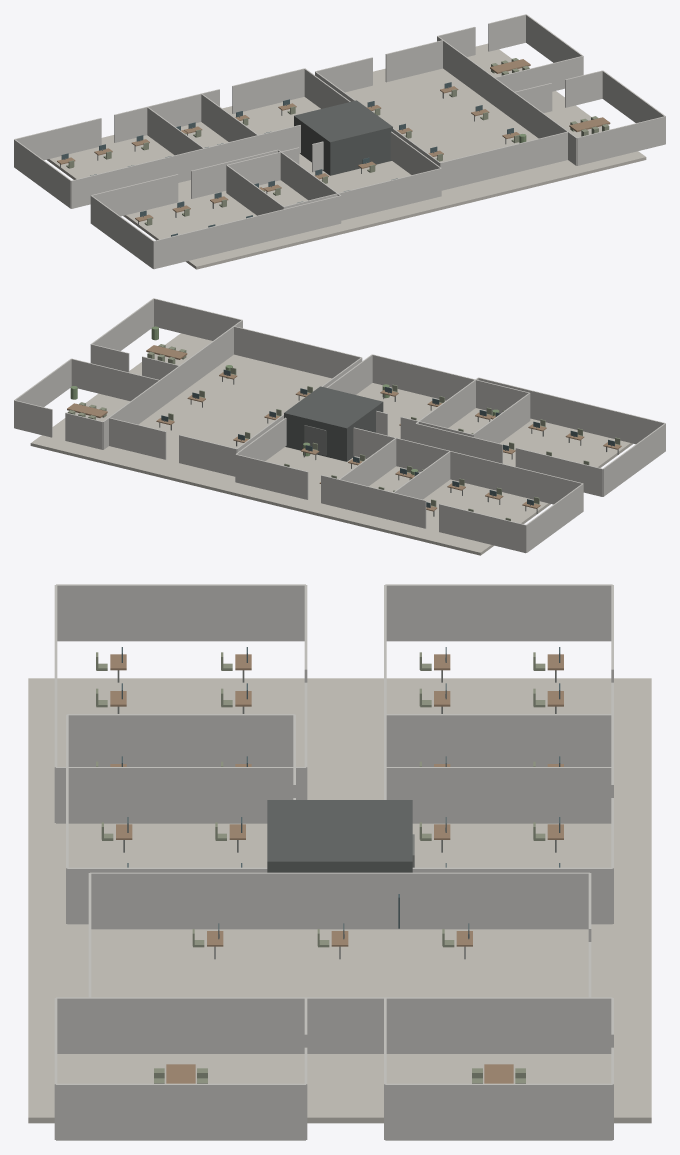
The picture shows the model from 3 angles, top to bottom: view 1: azimuth 30°, elevation 25°; view 2: azimuth 150°, elevation 25°; view 3: azimuth 270°, elevation 25°; orthographic projection. The views are drawn at different scales.
Visible parts, largest first — view 1: L2_slab, sales_workspace_north, L2_core, customer_success_north, marketing_north, sales_collab_north, customer_success_east, client_call_meet_north, sales_workspace_south_l, sales_collab_south_l, content_comms_south_r, sales_collab_south_r (+23 smaller); view 2: L2_slab, L2_core, sales_workspace_north, marketing_north, sales_collab_north, customer_success_north, customer_success_east, sales_collab_south_l, sales_collab_south_r, project_breakout_north, content_comms_south_r, client_call_meet_north (+24 smaller); view 3: L2_slab, customer_success_west, customer_success_east, client_call_meet_east, sales_workspace_west, project_breakout_east, sales_workspace_east, sales_collab_west, sales_collab_east, content_comms_west, marketing_west, L2_core (+5 smaller).
Boxes of the visible parts, x1=… form: L2_slab: x1=46, y1=43, x2=646, y2=269; sales_workspace_north: x1=153, y1=195, x2=340, y2=269; L2_core: x1=294, y1=100, x2=392, y2=175; customer_success_north: x1=440, y1=131, x2=567, y2=190; marketing_north: x1=283, y1=168, x2=441, y2=220; sales_collab_north: x1=71, y1=139, x2=244, y2=208; customer_success_east: x1=444, y1=40, x2=566, y2=138; client_call_meet_north: x1=577, y1=116, x2=665, y2=165; sales_workspace_south_l: x1=91, y1=174, x2=178, y2=216; sales_collab_south_l: x1=14, y1=118, x2=101, y2=160; content_comms_south_r: x1=232, y1=68, x2=304, y2=113; sales_collab_south_r: x1=114, y1=93, x2=201, y2=142; L2_slab: x1=30, y1=333, x2=633, y2=555; L2_core: x1=284, y1=386, x2=383, y2=461; sales_workspace_north: x1=478, y1=377, x2=665, y2=444; marketing_north: x1=372, y1=354, x2=529, y2=413; sales_collab_north: x1=396, y1=438, x2=582, y2=504; customer_success_north: x1=234, y1=326, x2=361, y2=378; customer_success_east: x1=108, y1=326, x2=233, y2=424; sales_collab_south_l: x1=439, y1=504, x2=526, y2=553; sales_collab_south_r: x1=339, y1=479, x2=426, y2=528; project_breakout_north: x1=71, y1=358, x2=158, y2=401; content_comms_south_r: x1=235, y1=454, x2=308, y2=499; client_call_meet_north: x1=154, y1=298, x2=242, y2=340; L2_slab: x1=28, y1=678, x2=651, y2=1123; customer_success_west: x1=90, y1=872, x2=589, y2=929; customer_success_east: x1=90, y1=997, x2=589, y2=1053; client_call_meet_east: x1=56, y1=1083, x2=305, y2=1140; sales_workspace_west: x1=56, y1=584, x2=305, y2=641; project_breakout_east: x1=385, y1=1083, x2=612, y2=1140; sales_workspace_east: x1=56, y1=767, x2=305, y2=823; sales_collab_west: x1=385, y1=584, x2=612, y2=641; sales_collab_east: x1=385, y1=767, x2=612, y2=823; content_comms_west: x1=385, y1=714, x2=612, y2=766; marketing_west: x1=67, y1=714, x2=294, y2=766; L2_core: x1=267, y1=800, x2=412, y2=872.
Bounding box in the file's own units: 52.12 × 3.54 × 27.43.
